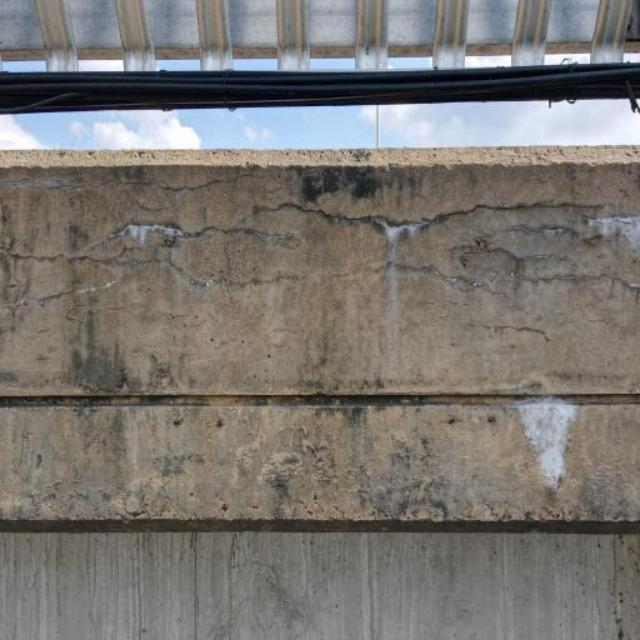D01: (518, 402, 577, 489), (586, 214, 639, 249)
